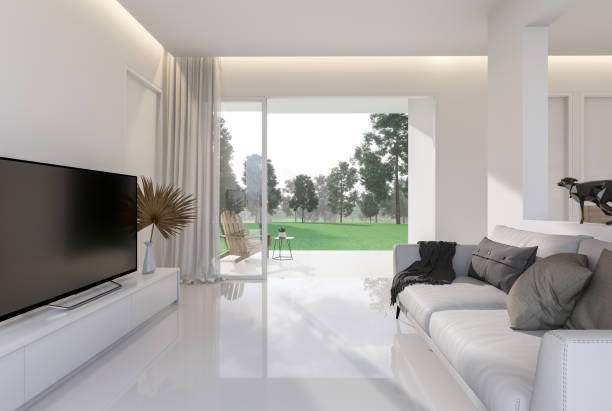TV: (0, 151, 139, 321)
TV stand: (0, 266, 183, 411)
flower vase: (138, 179, 197, 274)
sofa: (388, 222, 612, 411)
